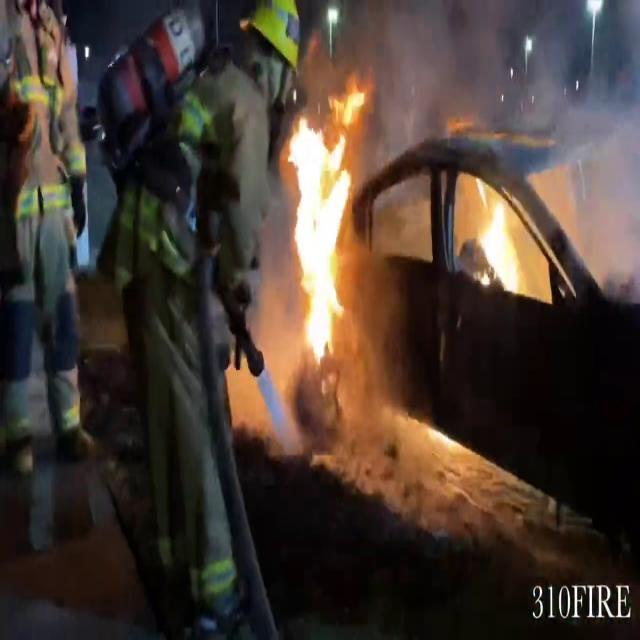Fire: (281, 61, 372, 367)
